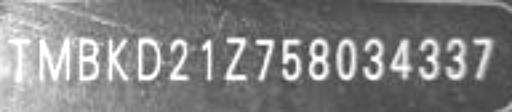letter: (34, 34, 74, 88), (219, 32, 253, 85), (386, 34, 416, 90), (360, 32, 388, 90), (330, 34, 360, 88), (74, 34, 104, 88), (2, 35, 34, 85), (162, 32, 192, 85), (278, 32, 306, 88), (104, 32, 132, 88), (134, 32, 162, 88), (304, 34, 332, 88), (440, 34, 468, 88), (470, 32, 498, 85), (416, 34, 442, 88), (251, 34, 277, 88), (194, 34, 216, 90)
